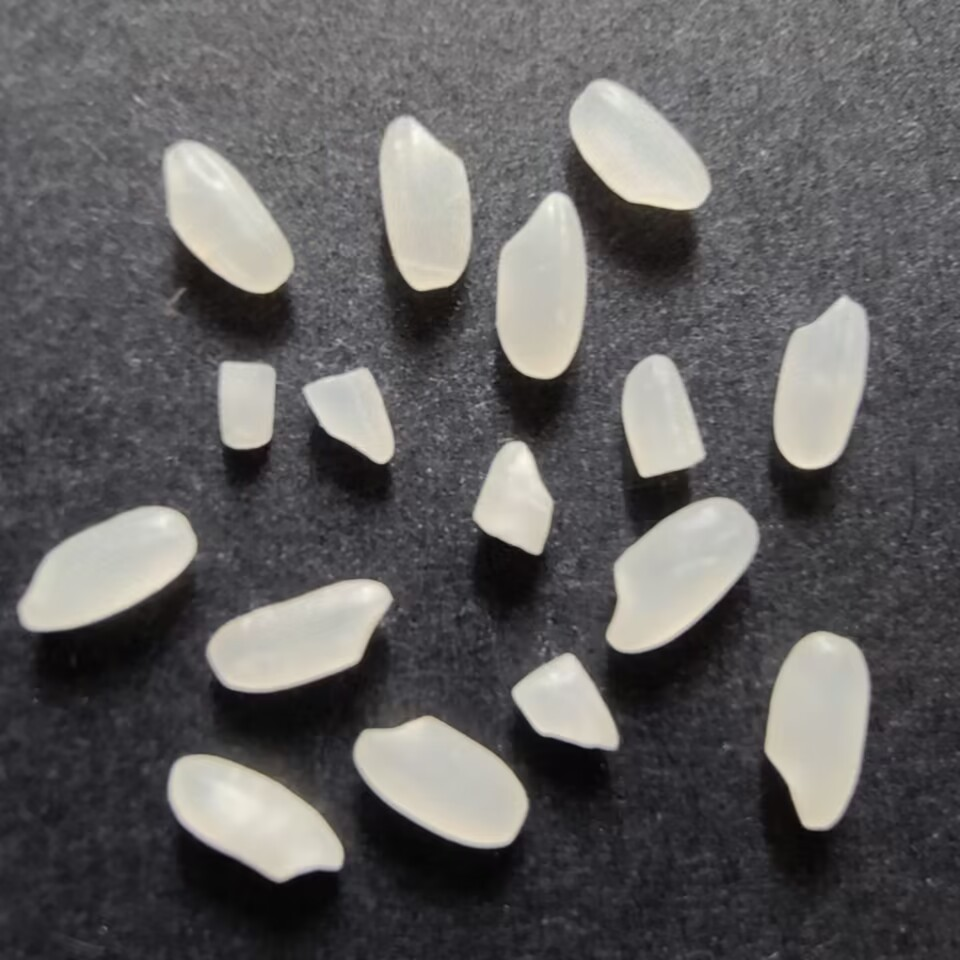broken: (510, 652, 622, 757), (619, 352, 708, 480), (470, 437, 557, 558), (301, 368, 397, 467), (213, 354, 277, 453)
rice: (601, 494, 762, 657), (347, 713, 532, 852), (12, 502, 198, 640), (165, 753, 348, 889), (762, 624, 870, 837), (202, 575, 392, 696), (156, 137, 299, 295), (565, 72, 711, 214), (769, 290, 873, 472), (491, 188, 589, 380), (377, 112, 476, 293)
